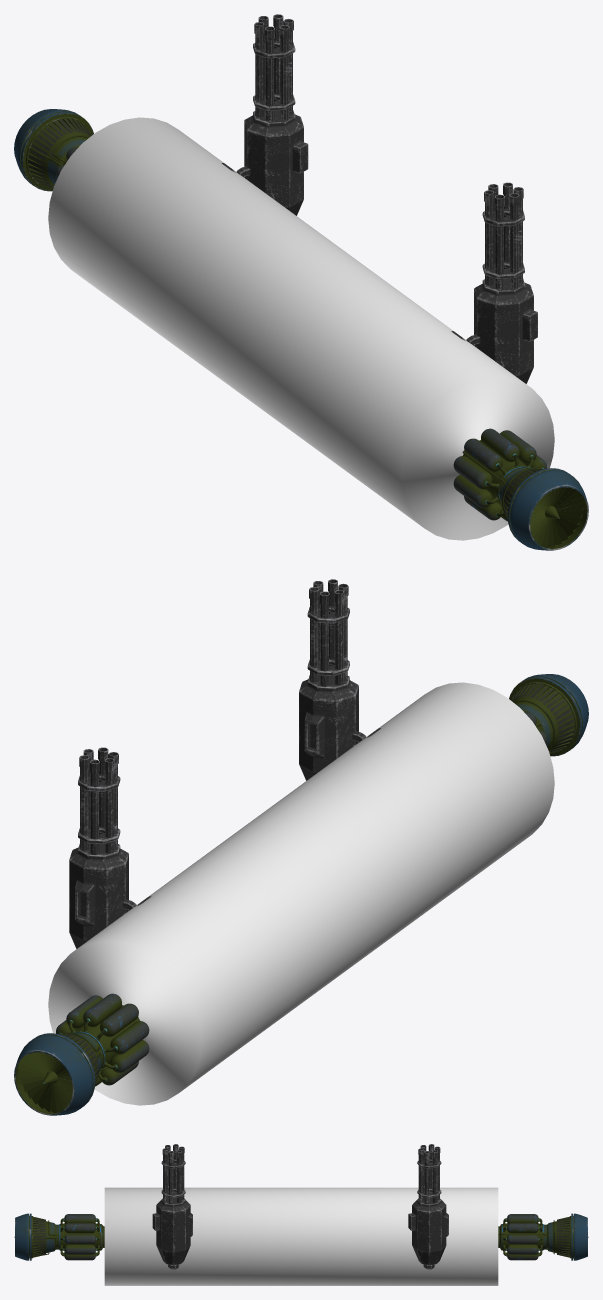
File: PlayerShip.fbx
3 views of the same model, one above another, from view 1: azimuth 30°, elevation 25°; view 2: azimuth 150°, elevation 25°; view 3: azimuth 270°, elevation 25° (orthographic). The views are drawn at different scales.
Parts seen in each view (by area): view 1: Ship Body.001, Cylinder, mg_body.002, mg_body.001, Cylinder.003, Cylinder.001, barrels.002, barrels.001, mg_barrels_sup.002, mg_barrels_sup.001; view 2: Ship Body.001, Cylinder.003, mg_body.002, mg_body.001, Cylinder, Cylinder.002, barrels.002, barrels.001, mg_barrels_sup.002, mg_barrels_sup.001; view 3: Ship Body.001, mg_body.002, mg_body.001, Cylinder, Cylinder.003, Cylinder.001, Cylinder.002, barrels.002, barrels.001, mg_barrels_sup.002, mg_barrels_sup.001.
Part boxes in pixels (left/top/right/bottom): Ship Body.001: left=48, top=117, right=554, bottom=540; Cylinder: left=462, top=440, right=588, bottom=550; mg_body.002: left=244, top=110, right=308, bottom=215; mg_body.001: left=474, top=278, right=537, bottom=383; Cylinder.003: left=14, top=109, right=93, bottom=191; Cylinder.001: left=453, top=428, right=546, bottom=521; barrels.002: left=254, top=14, right=293, bottom=121; barrels.001: left=484, top=182, right=523, bottom=289; mg_barrels_sup.002: left=253, top=40, right=295, bottom=110; mg_barrels_sup.001: left=482, top=209, right=524, bottom=279; Ship Body.001: left=48, top=682, right=554, bottom=1105; Cylinder.003: left=14, top=1005, right=139, bottom=1115; mg_body.002: left=69, top=844, right=128, bottom=948; mg_body.001: left=299, top=675, right=358, bottom=780; Cylinder: left=509, top=674, right=588, bottom=756; Cylinder.002: left=56, top=993, right=149, bottom=1086; barrels.002: left=79, top=747, right=118, bottom=854; barrels.001: left=309, top=579, right=348, bottom=686; mg_barrels_sup.002: left=78, top=774, right=120, bottom=844; mg_barrels_sup.001: left=307, top=605, right=349, bottom=675; Ship Body.001: left=104, top=1187, right=498, bottom=1285; mg_body.002: left=408, top=1197, right=448, bottom=1265; mg_body.001: left=152, top=1197, right=192, bottom=1265; Cylinder: left=14, top=1213, right=104, bottom=1260; Cylinder.003: left=498, top=1213, right=588, bottom=1260; Cylinder.001: left=60, top=1214, right=99, bottom=1260; Cylinder.002: left=503, top=1214, right=542, bottom=1260; barrels.002: left=418, top=1144, right=440, bottom=1203; barrels.001: left=162, top=1144, right=184, bottom=1203; mg_barrels_sup.002: left=417, top=1158, right=441, bottom=1197; mg_barrels_sup.001: left=161, top=1159, right=185, bottom=1197.
Size of the model in its own units: 249 by 351 by 1169.
